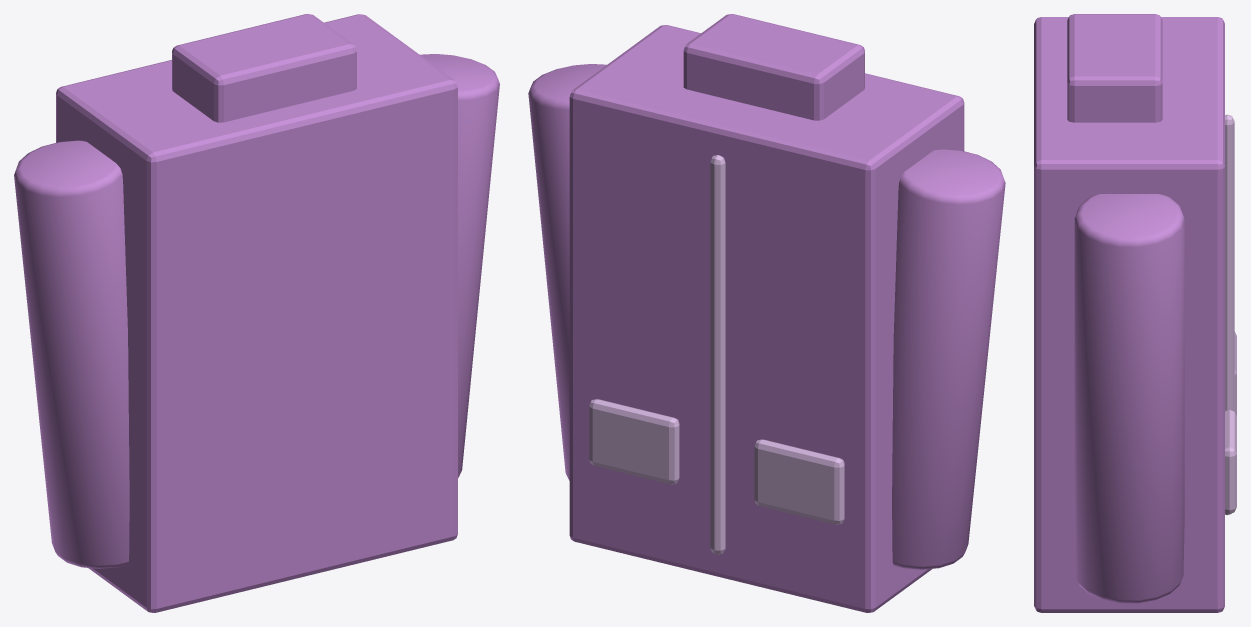
File: VM-CAB-8880.glb
3 renders of one model, left to right at view 1: azimuth 30°, elevation 25°; view 2: azimuth 150°, elevation 25°; view 3: azimuth 270°, elevation 25°, orthographic.
Visible parts, largest first — view 1: Bomber Jacket Stealth Pro; view 2: Bomber Jacket Stealth Pro; view 3: Bomber Jacket Stealth Pro.
Boxes of the visible parts, x1=… form: Bomber Jacket Stealth Pro: x1=14, y1=14, x2=499, y2=612; Bomber Jacket Stealth Pro: x1=528, y1=14, x2=1005, y2=612; Bomber Jacket Stealth Pro: x1=1034, y1=14, x2=1236, y2=612.
Size of the model in its own units: 0.7762 by 0.7972 by 0.2953.
